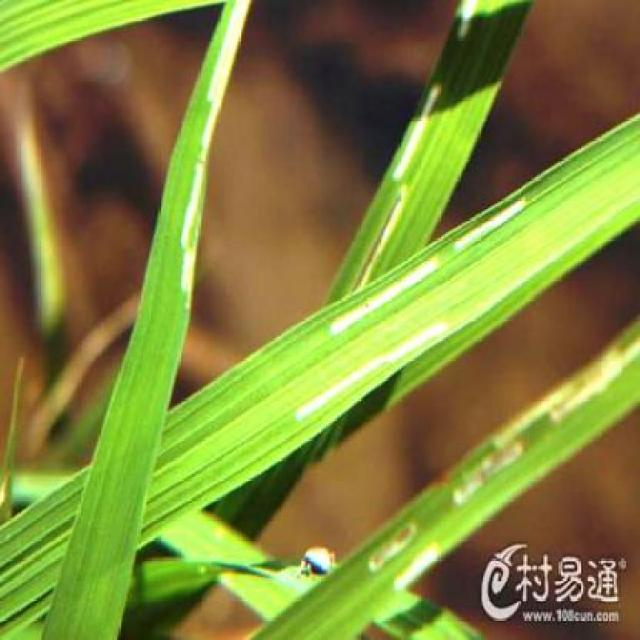rice-bug: (295, 545, 340, 577)
